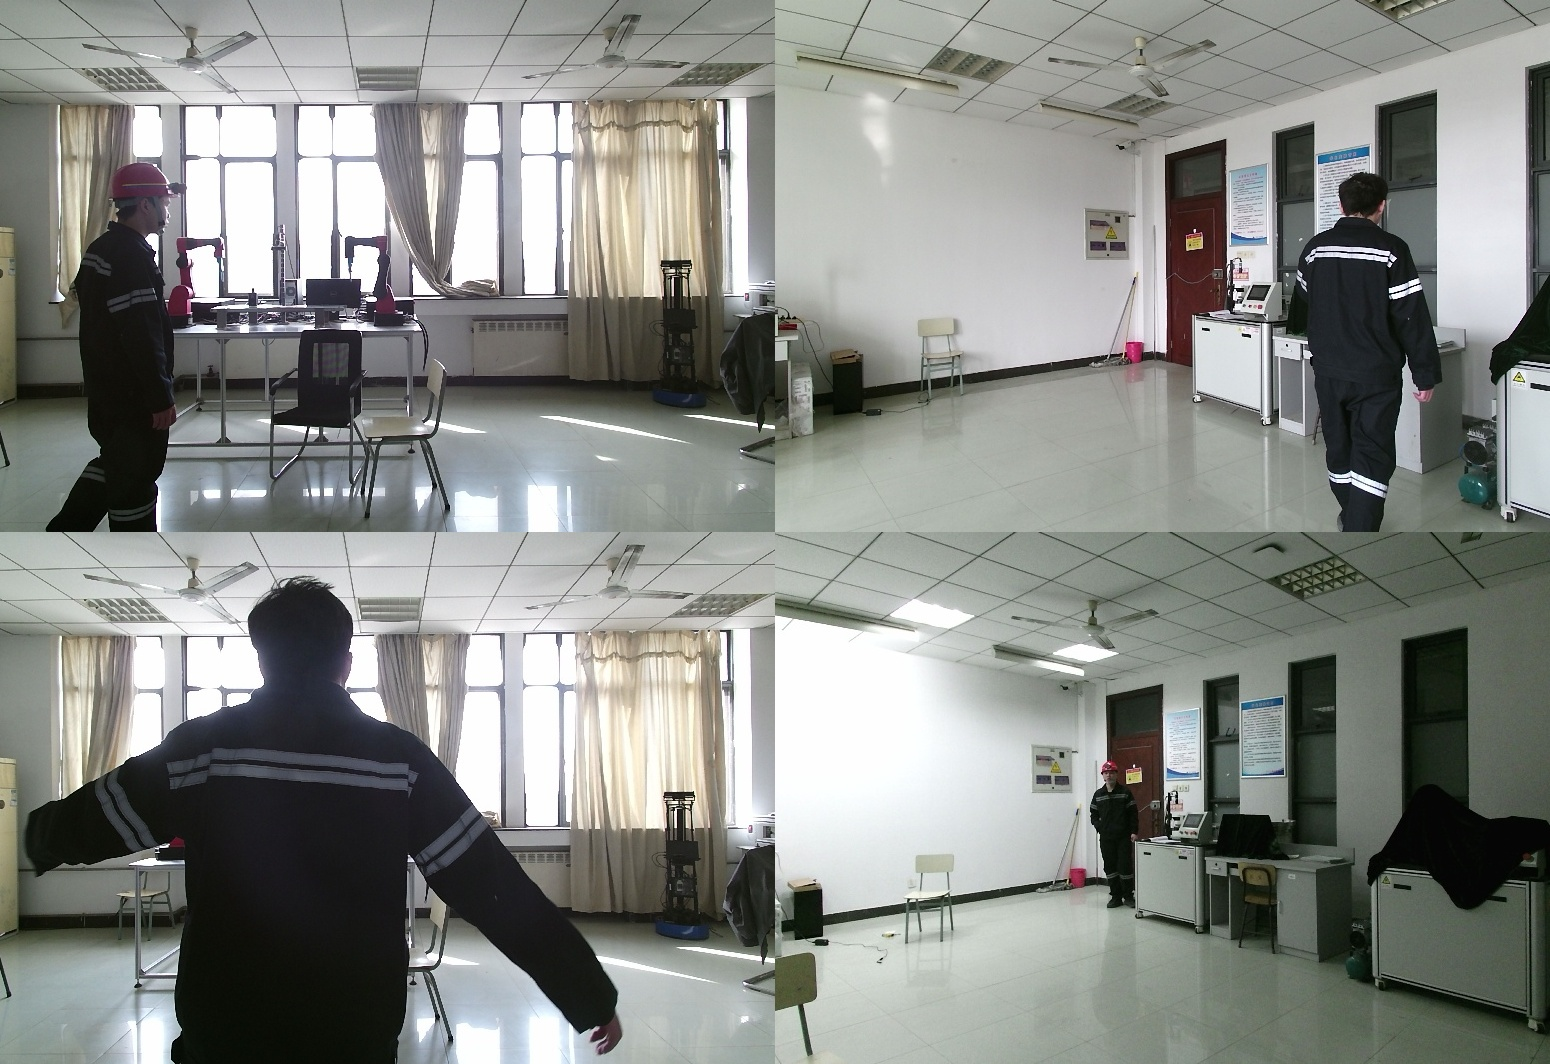person: (28, 583, 618, 1064), (1296, 173, 1462, 532), (46, 163, 190, 532), (1089, 762, 1140, 911)
